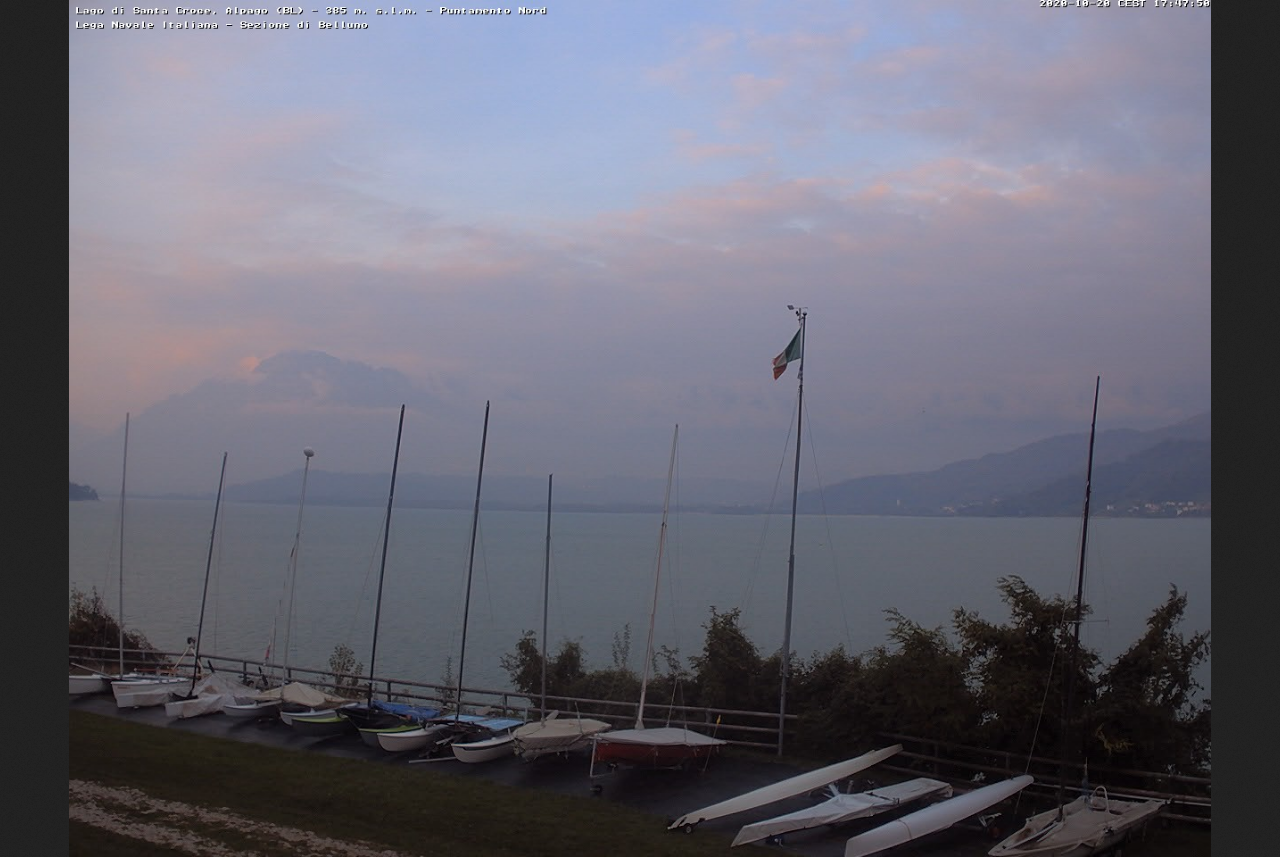maybe: (767, 311, 813, 388)
